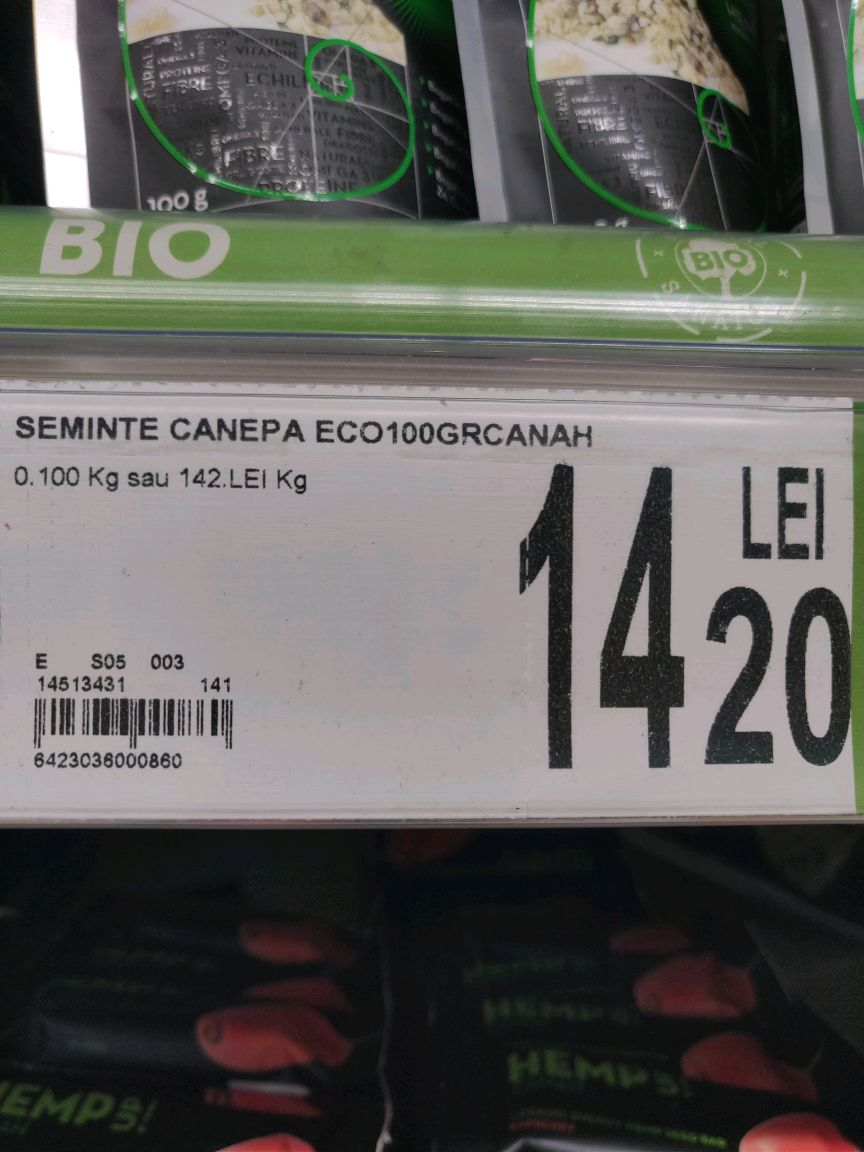price_bani: (696, 583, 851, 787)
price_lei: (513, 459, 688, 785)
price_tag: (5, 376, 864, 821)
product_id: (31, 745, 199, 785)
product_name: (11, 403, 606, 453)
